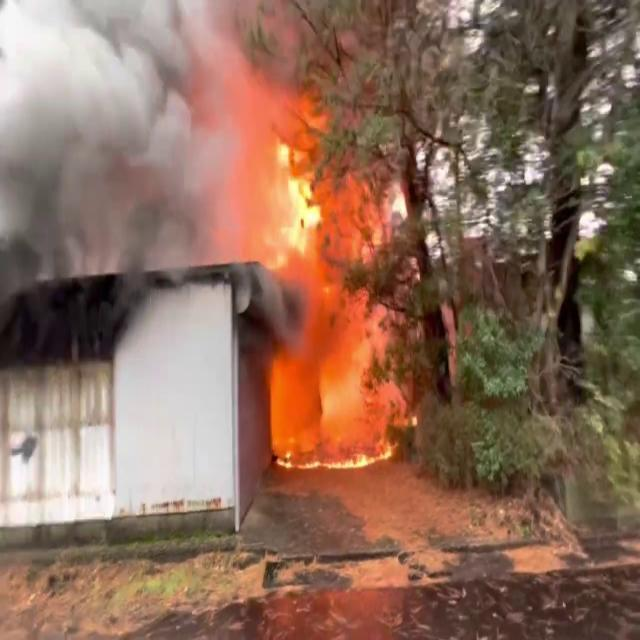Fire: (255, 99, 422, 472), (247, 108, 346, 282)
Smoke: (0, 0, 267, 374)
